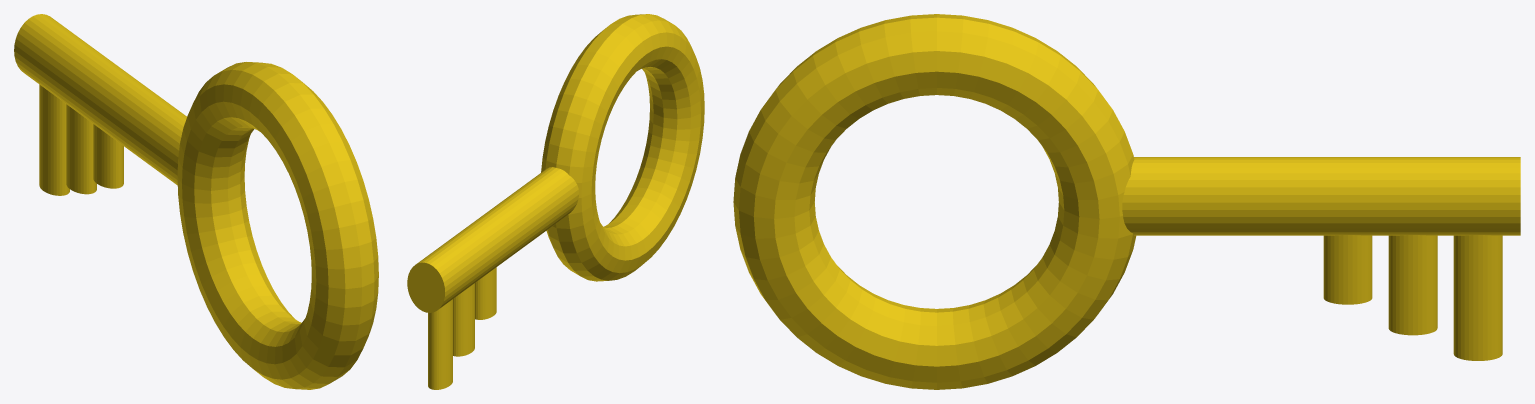
Rendered from key.fbx.
3 views of the same model, side by side, from view 1: azimuth 30°, elevation 25°; view 2: azimuth 150°, elevation 25°; view 3: azimuth 270°, elevation 25° (orthographic). The views are drawn at different scales.
Visible parts, largest first — view 1: Torus; view 2: Torus; view 3: Torus.
Part boxes in pixels (x1,y1,x2,y2): Torus: (14, 14, 378, 389); Torus: (407, 14, 704, 389); Torus: (733, 14, 1520, 389).
Bounding box in the file's own units: 50 × 250 × 484.
